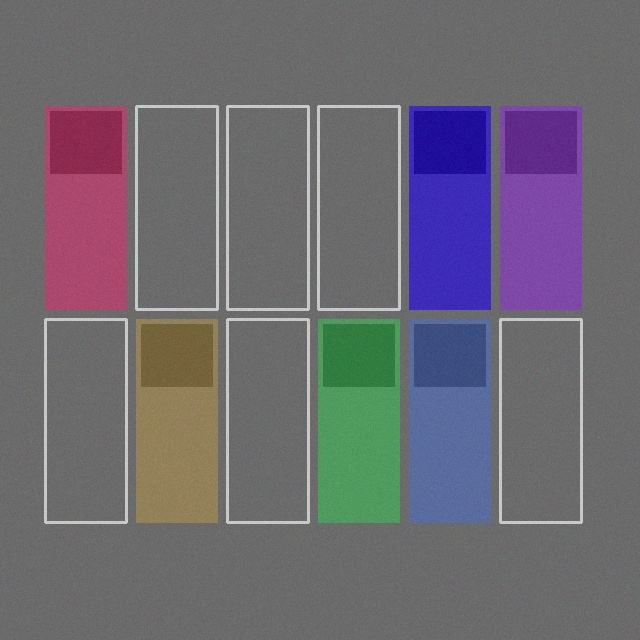space-empty: (136, 106, 217, 309), (227, 106, 308, 309), (318, 106, 399, 309), (45, 319, 126, 522), (227, 319, 308, 522), (500, 319, 581, 522)
space-occupied: (45, 106, 126, 309), (409, 106, 490, 309), (500, 106, 581, 309), (136, 319, 217, 522), (318, 319, 399, 522), (409, 319, 490, 522)
